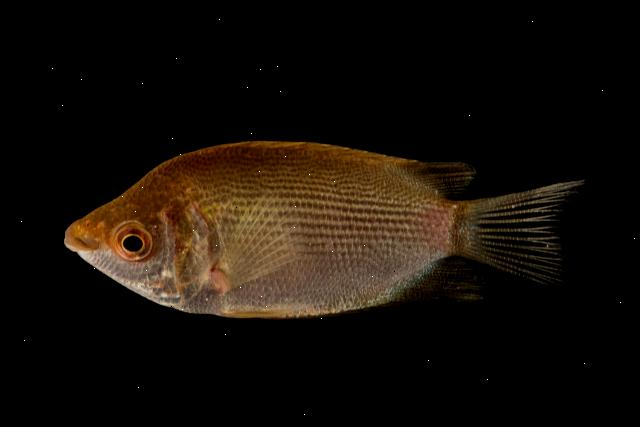Mulut: (37, 204, 109, 278)
Sirip Anal: (359, 252, 493, 318)
Sirip Dada: (190, 175, 314, 301)
Sirip Ekor: (443, 170, 601, 306)
Sirip Perut: (206, 300, 312, 332)
Sirip Punggung: (222, 132, 492, 204)
